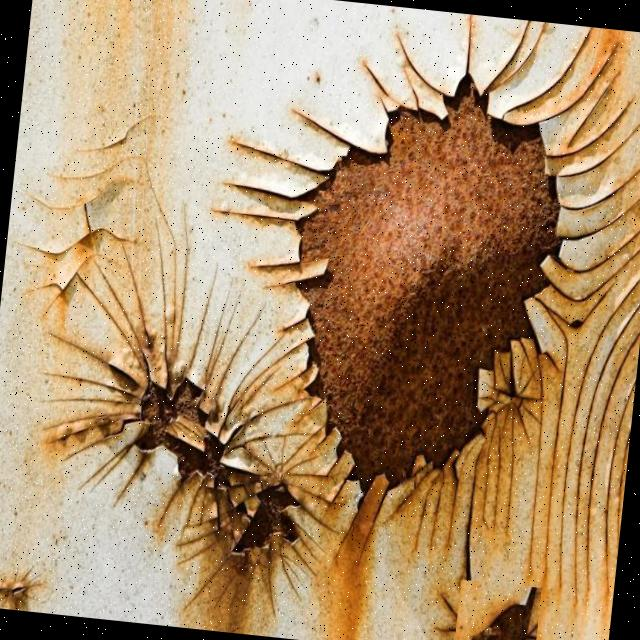Corrosion: (0, 0, 640, 640), (12, 213, 388, 640), (268, 62, 576, 508)
